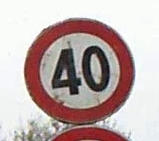limite 40: (22, 15, 135, 124)
